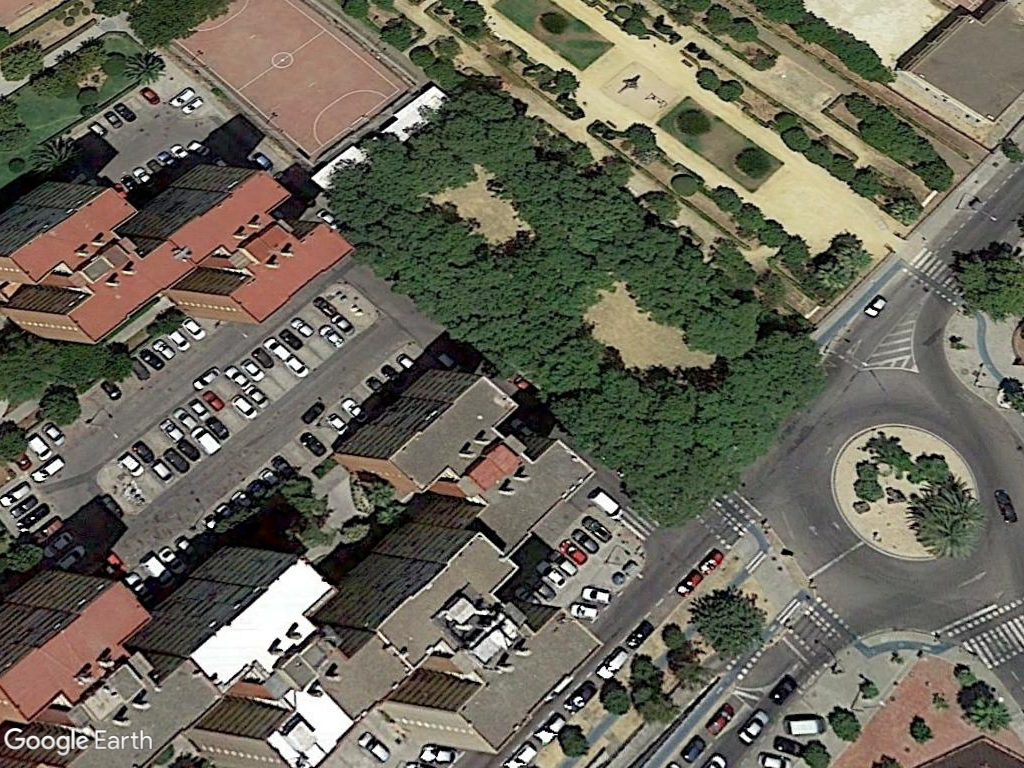car: (734, 704, 769, 748)
truck: (587, 482, 630, 521), (779, 712, 832, 738), (185, 427, 226, 457)
